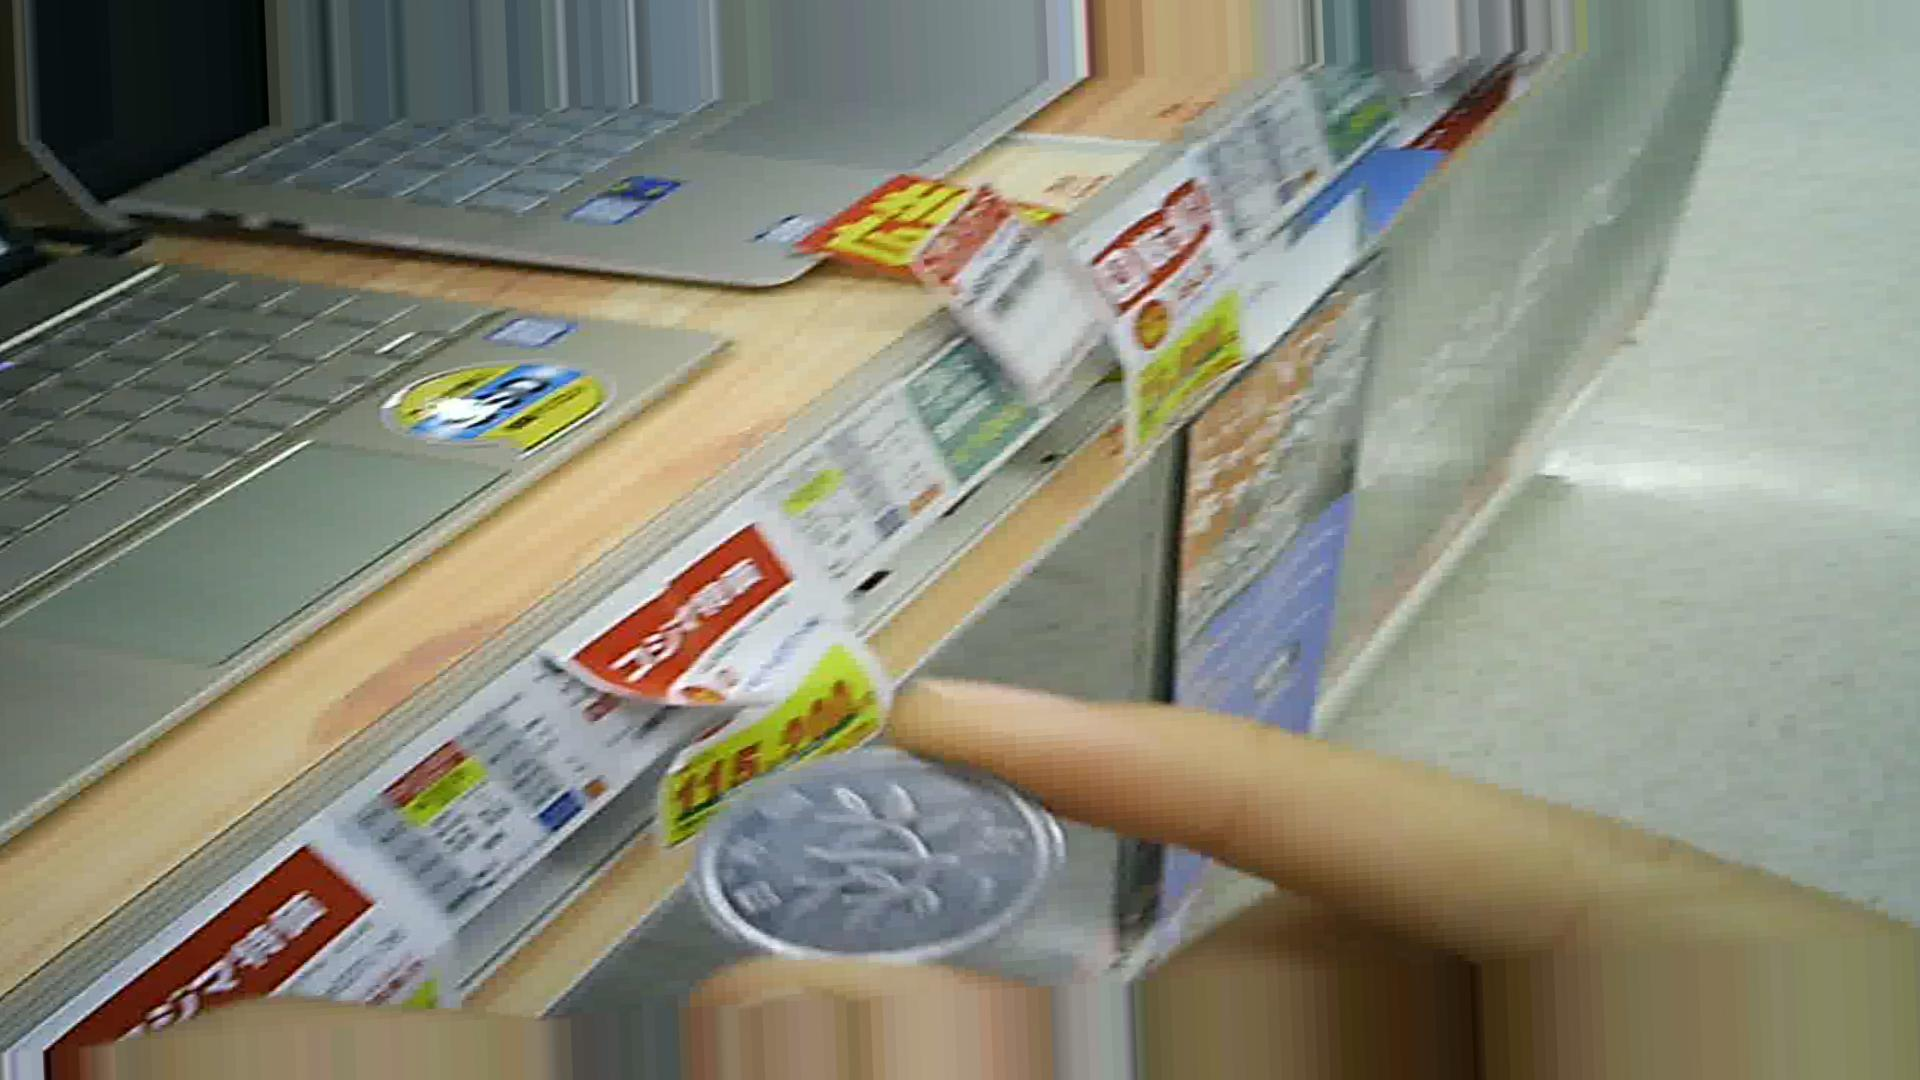1 Yen: (688, 765, 1077, 993)
